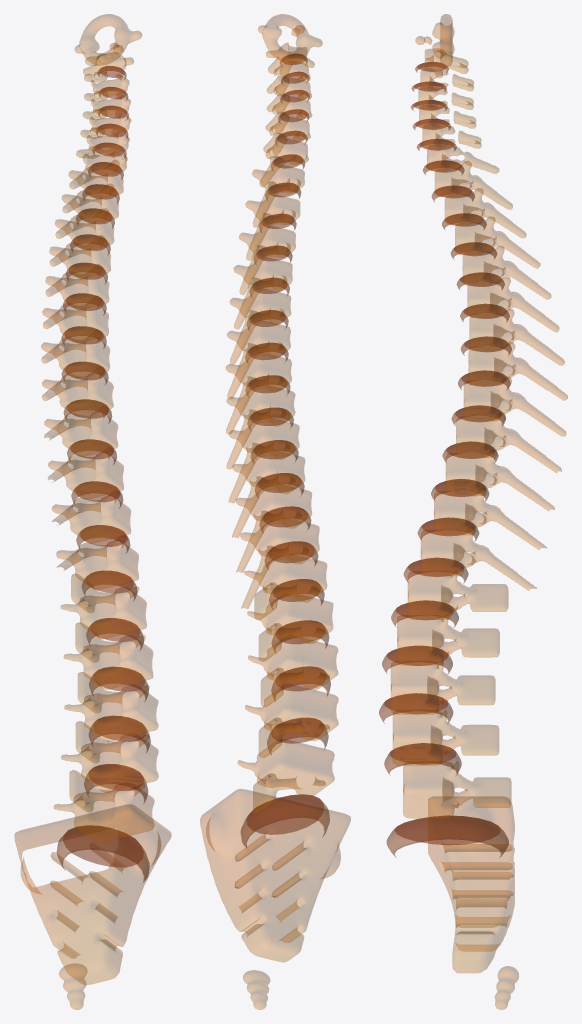
File: spine-anatomical.glb
3 views of the same model, side by side, from view 1: azimuth 30°, elevation 25°; view 2: azimuth 150°, elevation 25°; view 3: azimuth 270°, elevation 25° (orthographic). The views are drawn at different scales.
Visible parts, largest first — view 1: sacrum, L5, L4, L3, L2, L1, disc_L5S, T12, T11, T10, T9, T8 (+33 smaller); view 2: sacrum, L5, L4, L3, L2, L1, T12, disc_L5S, T11, T10, T9, T8 (+32 smaller); view 3: sacrum, L5, L4, L3, L2, L1, disc_L5S, T12, T11, T10, T9, T8 (+31 smaller).
Boxes of the visible parts, x1,y1,x2,y2 form: sacrum: (14, 804, 171, 984); L5: (54, 770, 154, 842); L4: (61, 721, 158, 792); L3: (64, 672, 158, 741); L2: (64, 622, 152, 689); L1: (61, 574, 146, 638); disc_L5S: (56, 825, 149, 882); T12: (56, 538, 138, 589); T11: (52, 495, 130, 543); T10: (48, 452, 123, 499); T9: (44, 413, 117, 456); T8: (42, 374, 113, 416); sacrum: (200, 789, 350, 962); L5: (238, 740, 334, 813); L4: (245, 686, 338, 757); L3: (248, 638, 337, 706); L2: (247, 597, 332, 661); L1: (244, 558, 326, 619); T12: (240, 522, 319, 608); disc_L5S: (240, 794, 329, 847); T11: (236, 488, 311, 572); T10: (232, 454, 304, 537); T9: (229, 422, 299, 502); T8: (226, 389, 295, 468); sacrum: (428, 797, 514, 972); L5: (403, 762, 511, 818); L4: (393, 710, 498, 765); L3: (391, 662, 495, 714); L2: (397, 616, 499, 665); L1: (407, 572, 508, 619); disc_L5S: (386, 815, 508, 857); T12: (421, 531, 536, 590); T11: (434, 490, 546, 549); T10: (445, 452, 554, 510); T9: (456, 413, 561, 472); T8: (464, 377, 566, 436).
Size of the model in its own units: 0.1117 by 0.7962 by 0.1373.
